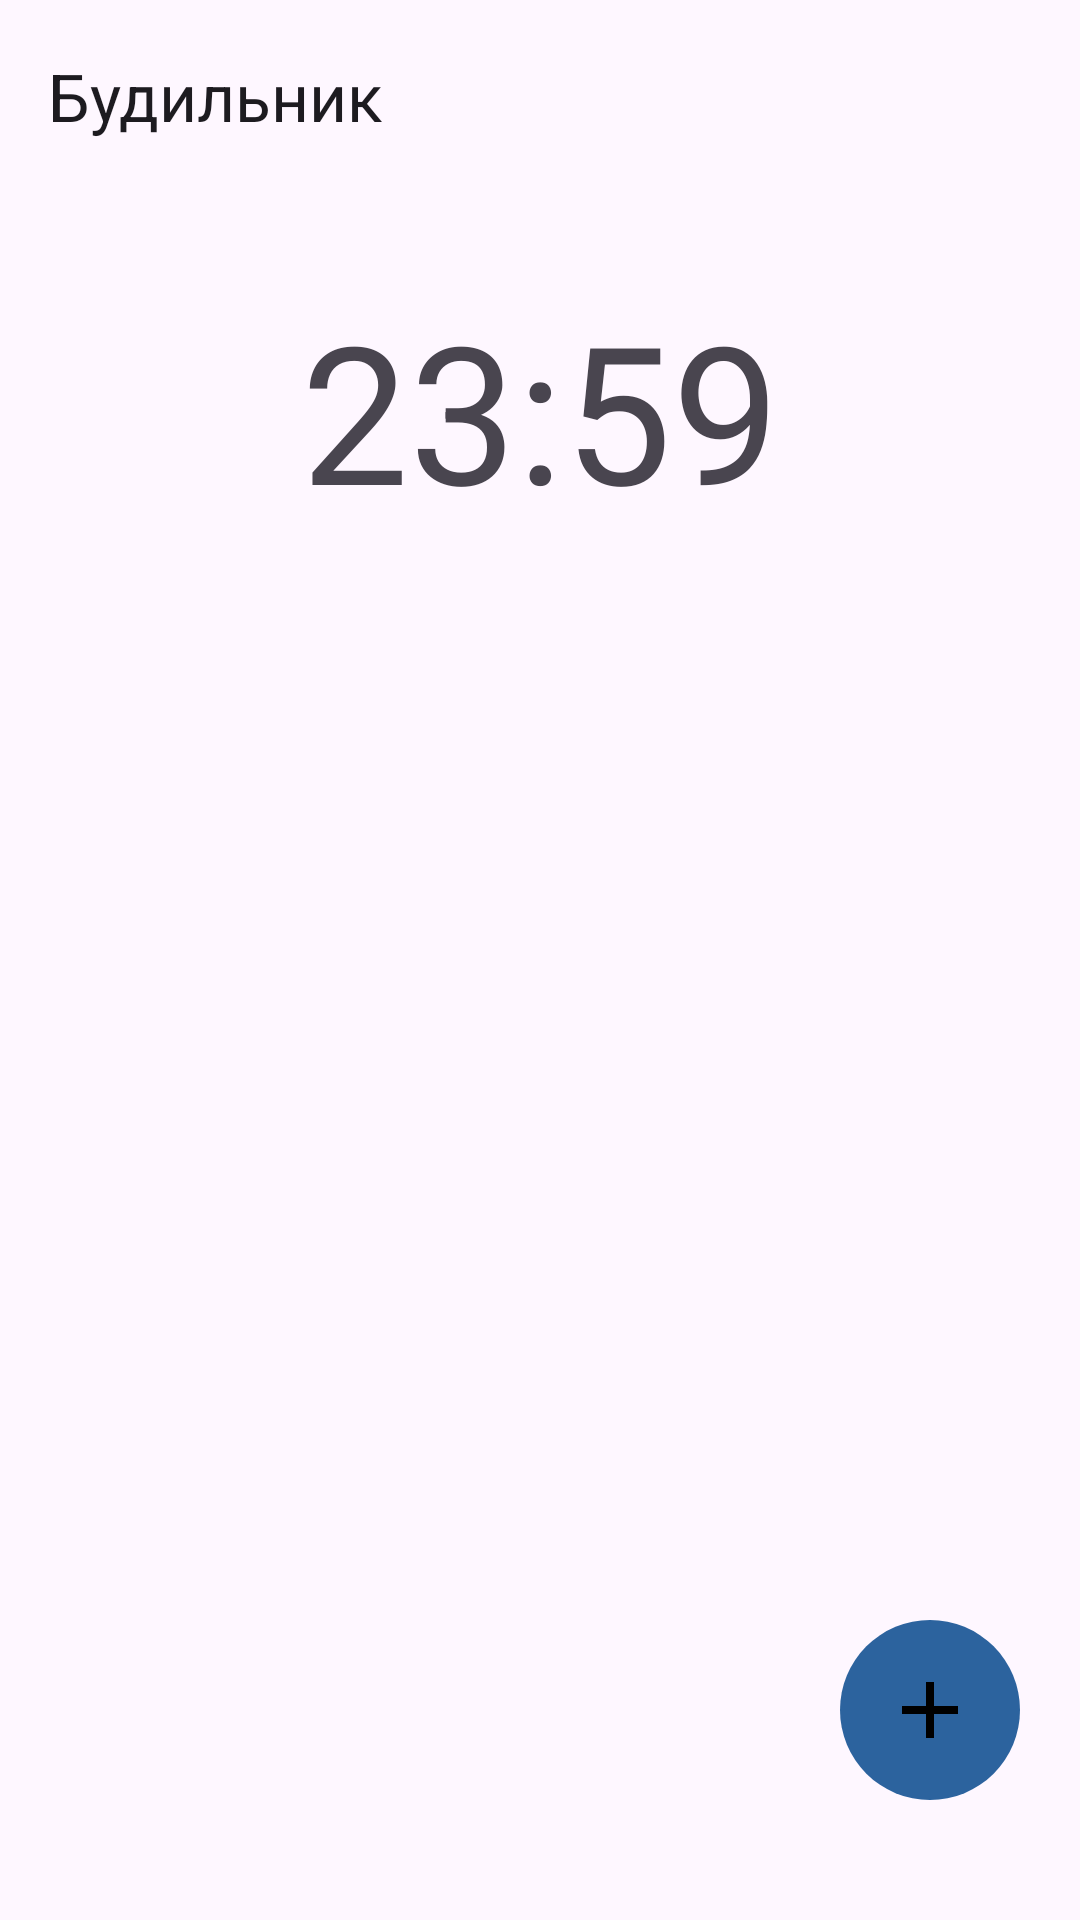

Where icons sit on this 1080*1920 app screen, as (x1, y1, x2, y2):
add: (840, 1620, 1020, 1800)
